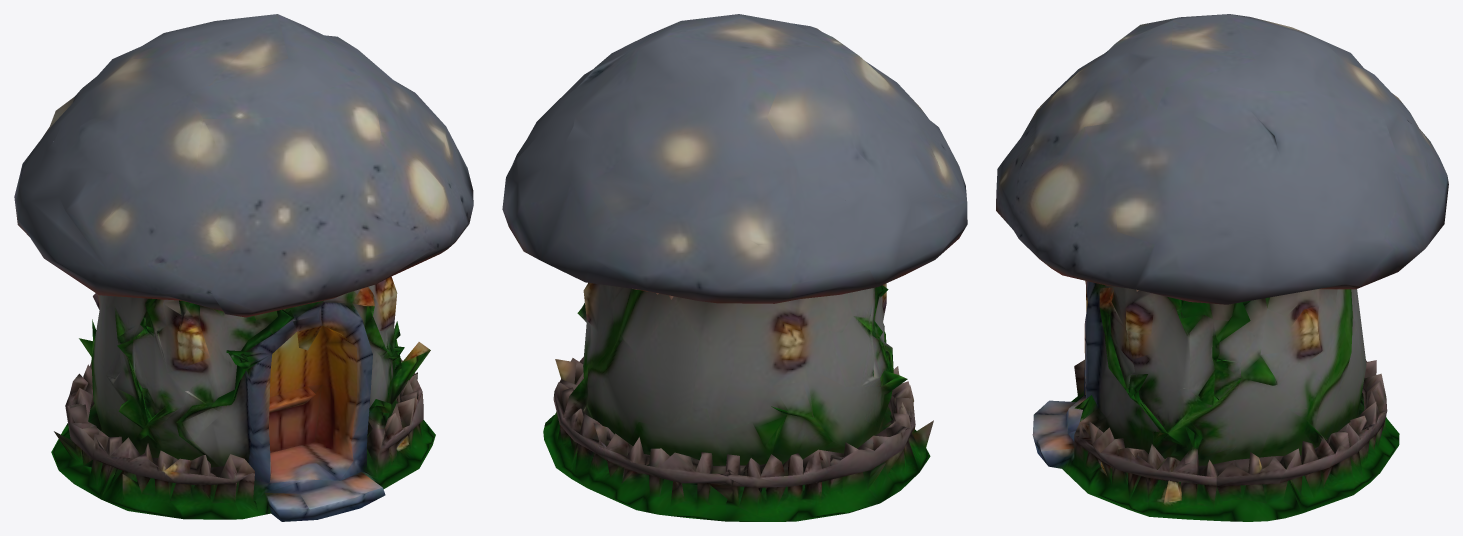
The picture shows the model from 3 angles, left to right: view 1: azimuth 30°, elevation 25°; view 2: azimuth 150°, elevation 25°; view 3: azimuth 270°, elevation 25°; orthographic projection.
Visible parts, largest first — view 1: tripo_node_be219c1d-71d1-48e5-8352-27afac6c9d9a; view 2: tripo_node_be219c1d-71d1-48e5-8352-27afac6c9d9a; view 3: tripo_node_be219c1d-71d1-48e5-8352-27afac6c9d9a.
Boxes of the visible parts, x1,y1,x2,y2 form: tripo_node_be219c1d-71d1-48e5-8352-27afac6c9d9a: [14, 14, 473, 521]; tripo_node_be219c1d-71d1-48e5-8352-27afac6c9d9a: [502, 14, 967, 521]; tripo_node_be219c1d-71d1-48e5-8352-27afac6c9d9a: [996, 14, 1448, 521].
Bounding box in the file's own units: 1 × 0.9814 × 0.9904.
Materials: 1 (1 with a texture image).
